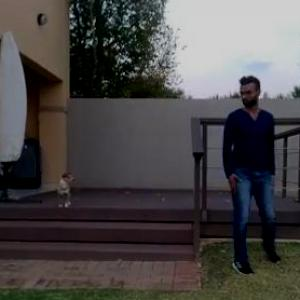follow: (205, 67, 271, 287)
